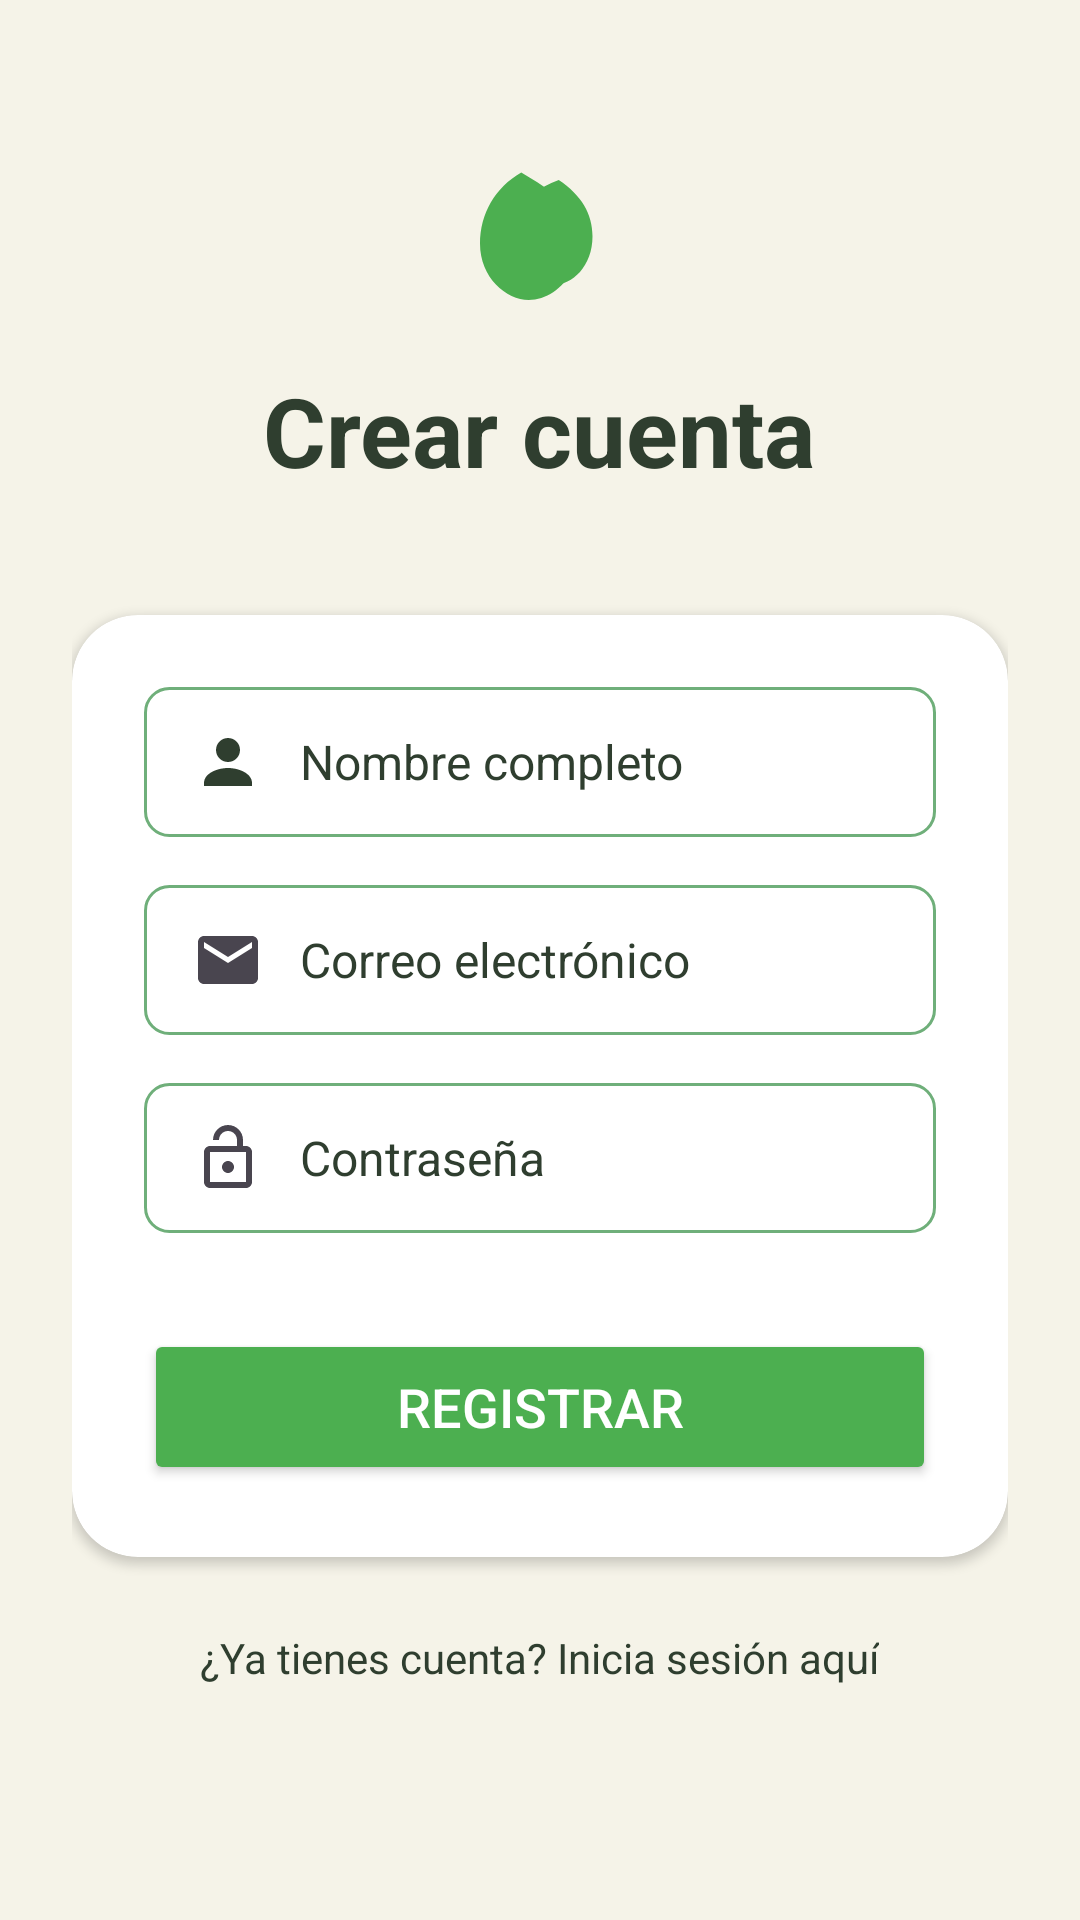

Named icons in this screenshot (1080 x 1920) and their bounding boxes, Rect(x1, y1, x2, y2):
leaf: Rect(480, 172, 593, 300)
